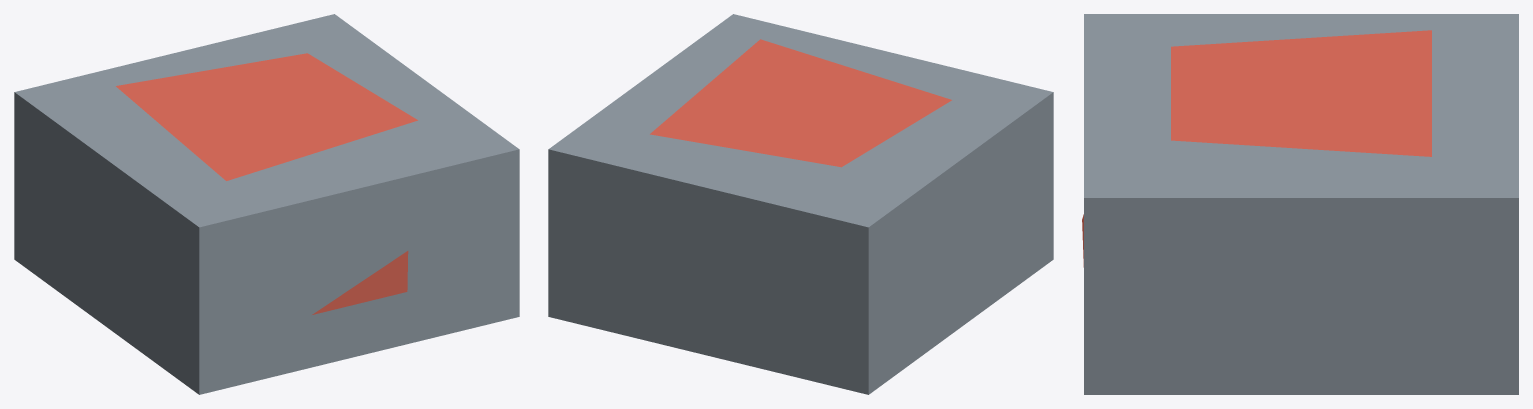
Rendered from SU_WarFactory_LOD1.glb.
3 views of the same model, side by side, from view 1: azimuth 30°, elevation 25°; view 2: azimuth 150°, elevation 25°; view 3: azimuth 270°, elevation 25° (orthographic). The views are drawn at different scales.
Parts seen in each view (by area): view 1: EntranceGate; view 2: EntranceGate; view 3: EntranceGate.
Boxes of the visible parts, bbox=[...] form: EntranceGate: bbox=[14, 14, 519, 394]; EntranceGate: bbox=[548, 14, 1053, 394]; EntranceGate: bbox=[1082, 14, 1518, 394].
Size of the model in its own units: 800 by 442 by 803.
